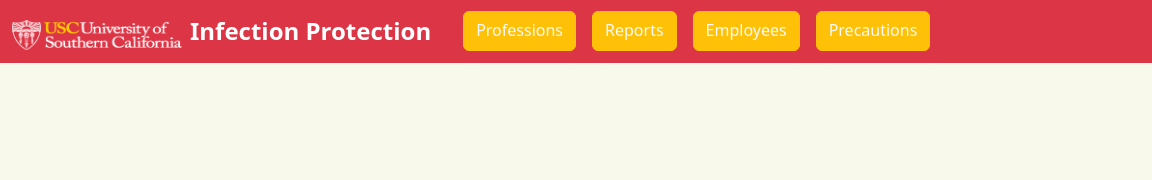
Scenario: Homepage Testing › Visits 'Professions' list view
Click the link "Professions" at (520, 31), box x1=476 y1=18 x2=563 y2=44
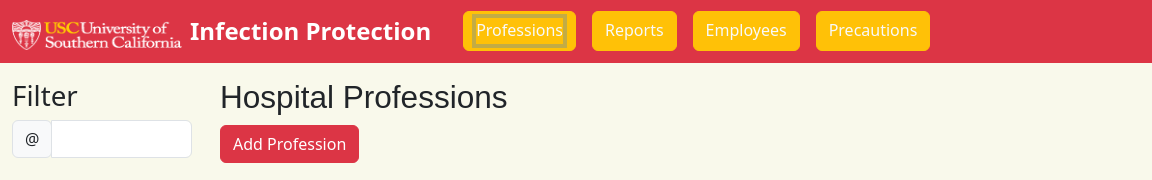
Result: the heading "Hospital Professions" is shown at x1=220 y1=79 x2=508 y2=116
